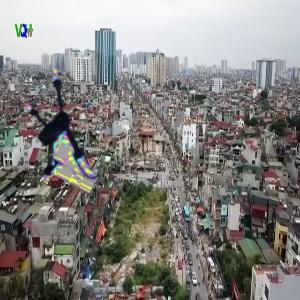drone: (5, 70, 119, 184)
